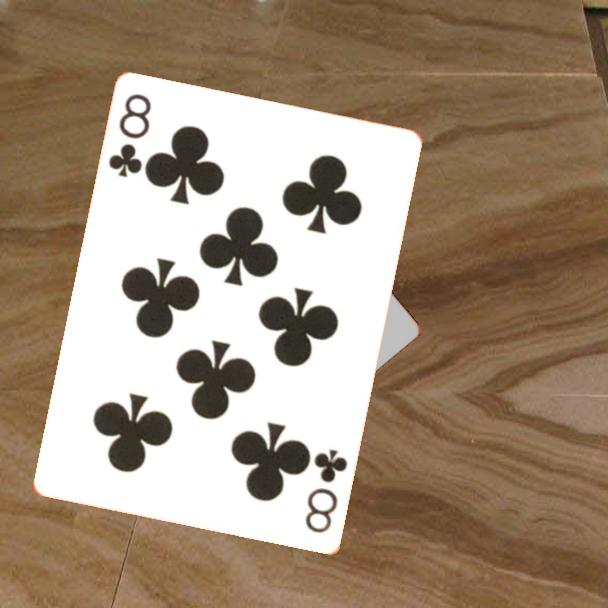c08: (105, 90, 155, 181), (302, 446, 351, 537)
